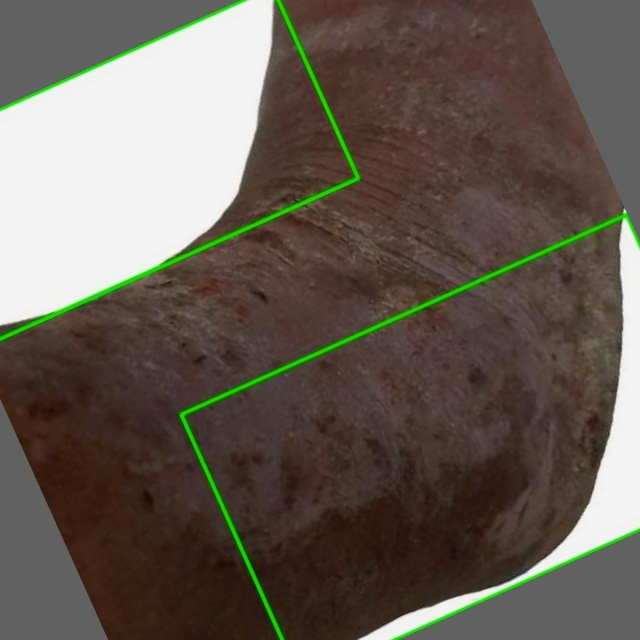Eczema: (181, 214, 639, 639), (0, 0, 358, 338)
